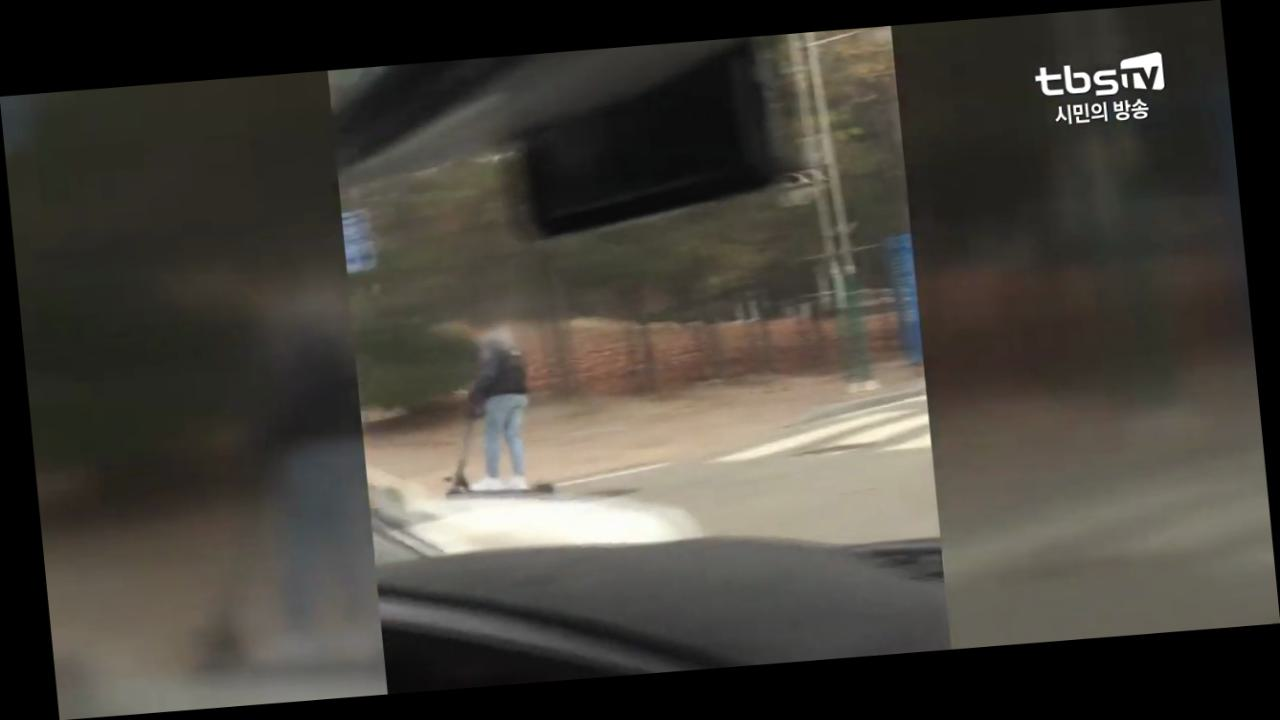nonhelmet: (428, 304, 566, 509)
